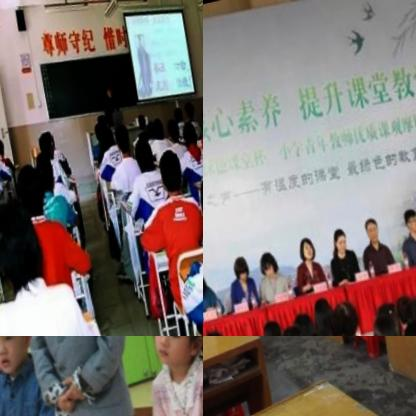head: (0, 193, 44, 292), (141, 336, 203, 371), (12, 161, 47, 221), (0, 336, 37, 379), (152, 150, 183, 200), (329, 301, 361, 336), (366, 304, 398, 336), (30, 152, 53, 191), (309, 299, 334, 334), (129, 136, 152, 171), (192, 172, 203, 241), (253, 251, 276, 278), (111, 124, 131, 155), (179, 121, 198, 152), (34, 129, 53, 159), (228, 255, 247, 284), (399, 208, 416, 237), (96, 123, 114, 150), (295, 238, 314, 263), (360, 220, 378, 246), (275, 321, 305, 336), (302, 323, 335, 336), (164, 119, 180, 145), (328, 230, 345, 254), (149, 115, 165, 140), (259, 320, 284, 336), (395, 318, 416, 336), (89, 119, 103, 144), (180, 100, 193, 120), (101, 81, 112, 101), (143, 119, 154, 139), (134, 111, 146, 129), (170, 108, 182, 125), (195, 106, 203, 130), (0, 136, 3, 158)
